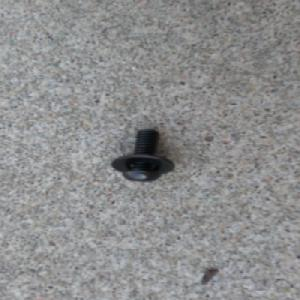BoltWasher: (110, 125, 177, 183)
